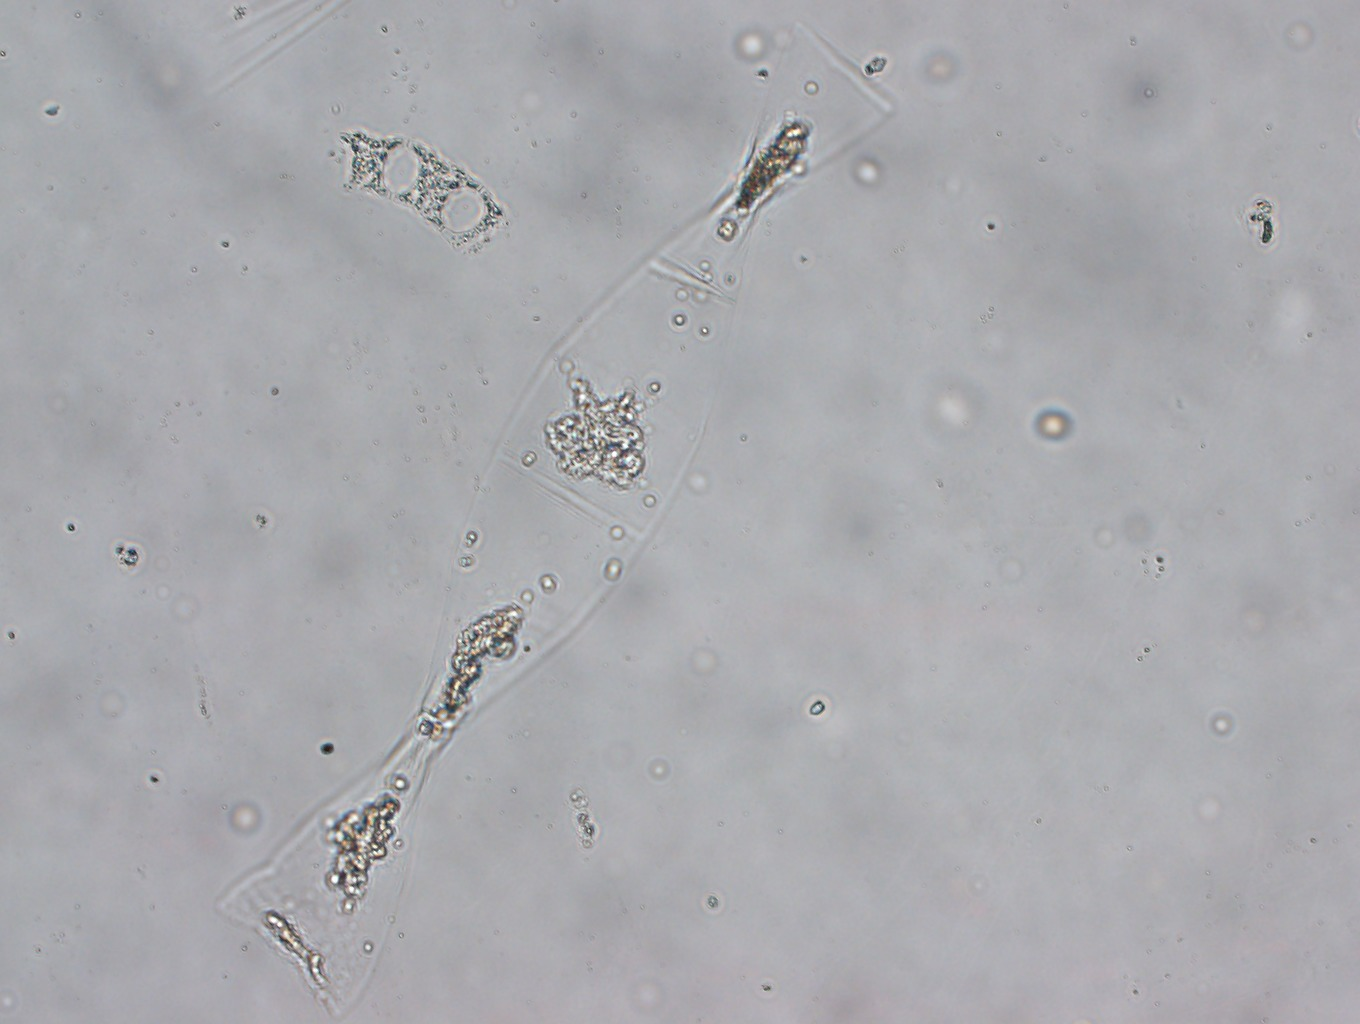eucampia: (337, 127, 509, 259)
helicotheca: (213, 19, 893, 1020)
